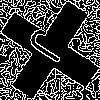J: (25, 25, 77, 72)
